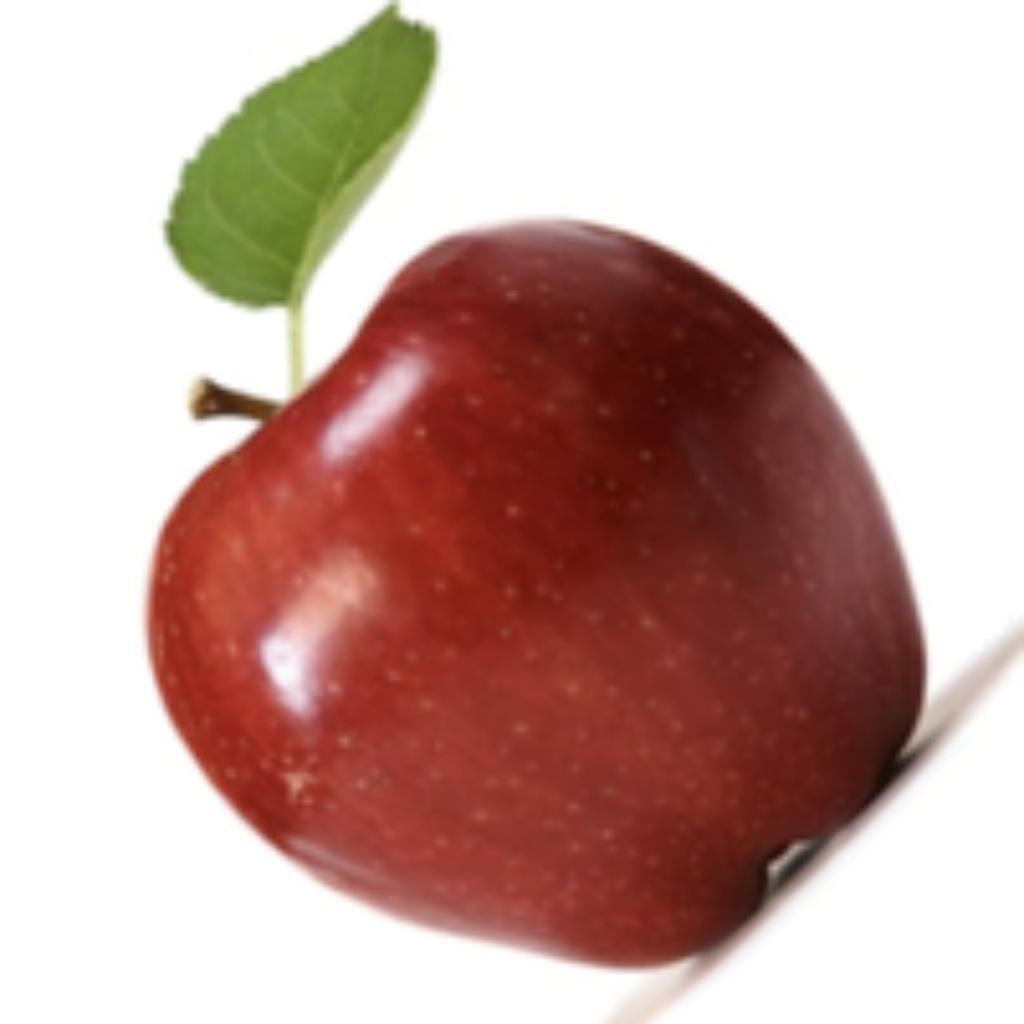apple: (133, 129, 1019, 1019)
